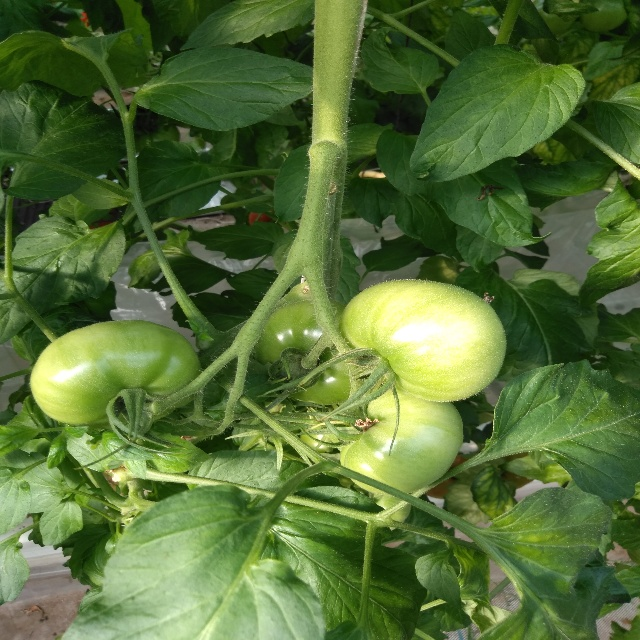b_green: (339, 279, 506, 402), (30, 319, 202, 425), (339, 375, 464, 494), (254, 298, 387, 405), (322, 460, 411, 531), (300, 415, 341, 453)
